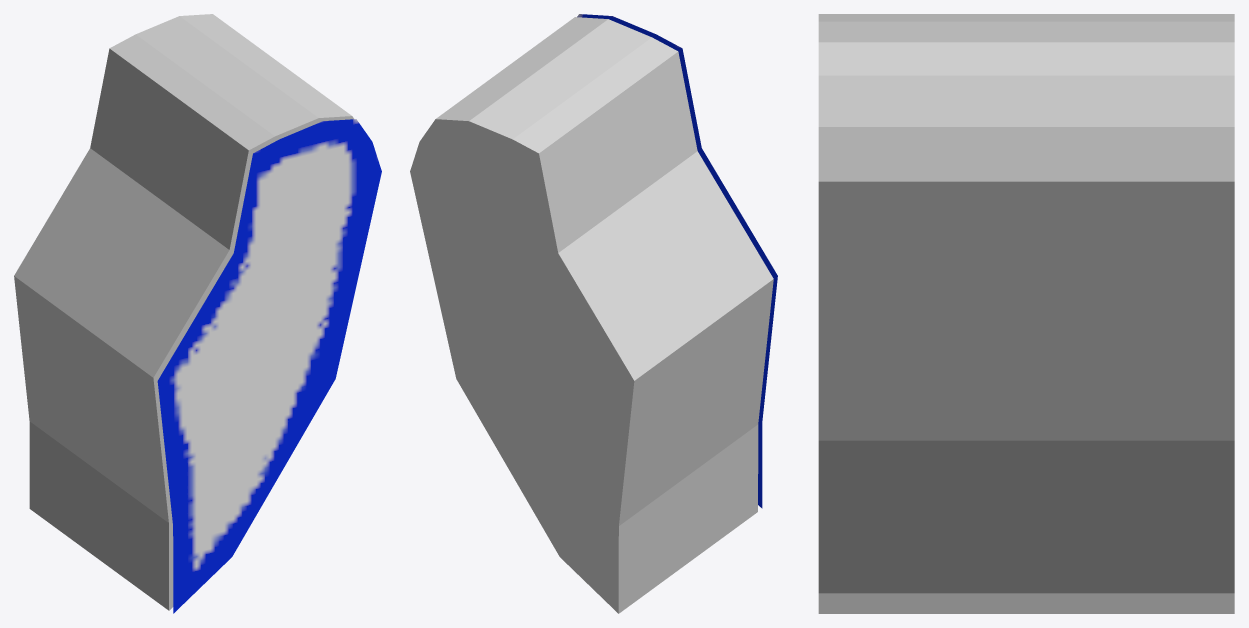
3 views of the same model, side by side, from view 1: azimuth 30°, elevation 25°; view 2: azimuth 150°, elevation 25°; view 3: azimuth 270°, elevation 25° (orthographic). The views are drawn at different scales.
Visible parts, largest first — view 1: In_9_0, In_9_1; view 2: In_9_0, In_9_1; view 3: In_9_0.
Boxes of the visible parts, box(x1,y1,x2,y2) form: In_9_0: box(14, 14, 353, 610); In_9_1: box(157, 119, 381, 613); In_9_0: box(410, 17, 773, 613); In_9_1: box(577, 14, 777, 508); In_9_0: box(818, 14, 1234, 613).
Bounding box in the file's own units: 0.4645 × 0.9028 × 0.515.
Materials: 2 (1 with a texture image).
